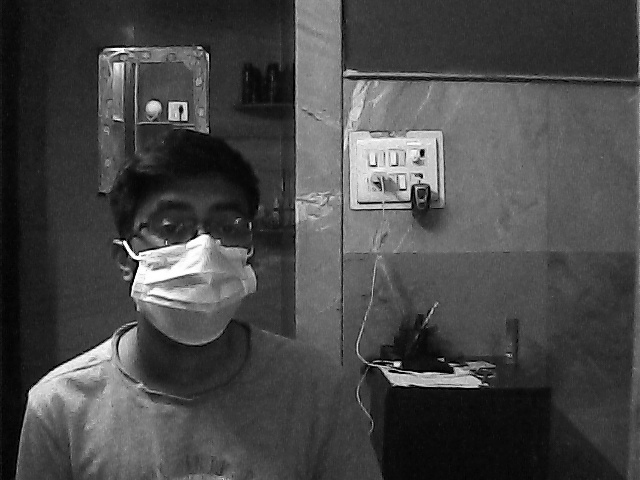mask: (126, 194, 251, 349)
